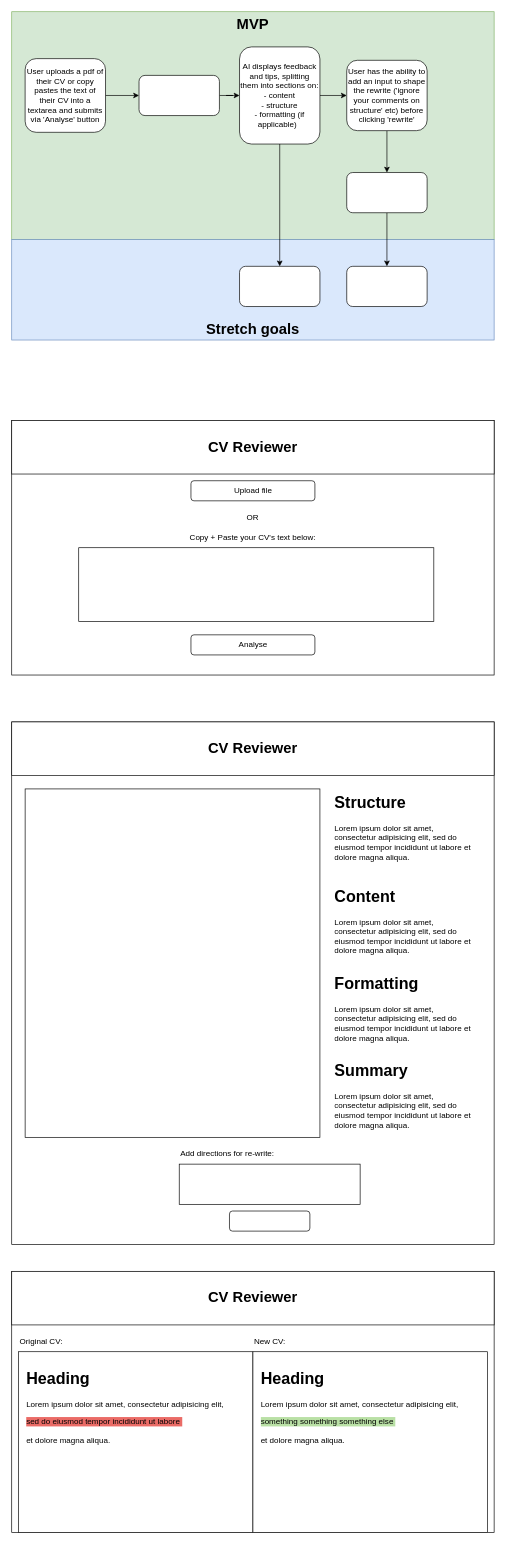
Image size: 506x1544. Some labels were removed from this diagram. Here are the shapes that lost their labels. From the top down, the centre of each, then its label:
At pixel 178 95: "AI analyses the CV, both on structure & content of text (and formatting if pdf)".
At pixel 386 192: "AI rewrites CV and displays new with the original side by side".
At pixel 279 286: "Is able to highlight those sections in the display?".
At pixel 386 286: "Display diffs between old and new CV?".
At pixel 269 1183: "E.g. don't include your recommendations on structure...".
At pixel 269 1220: "Re-write".
